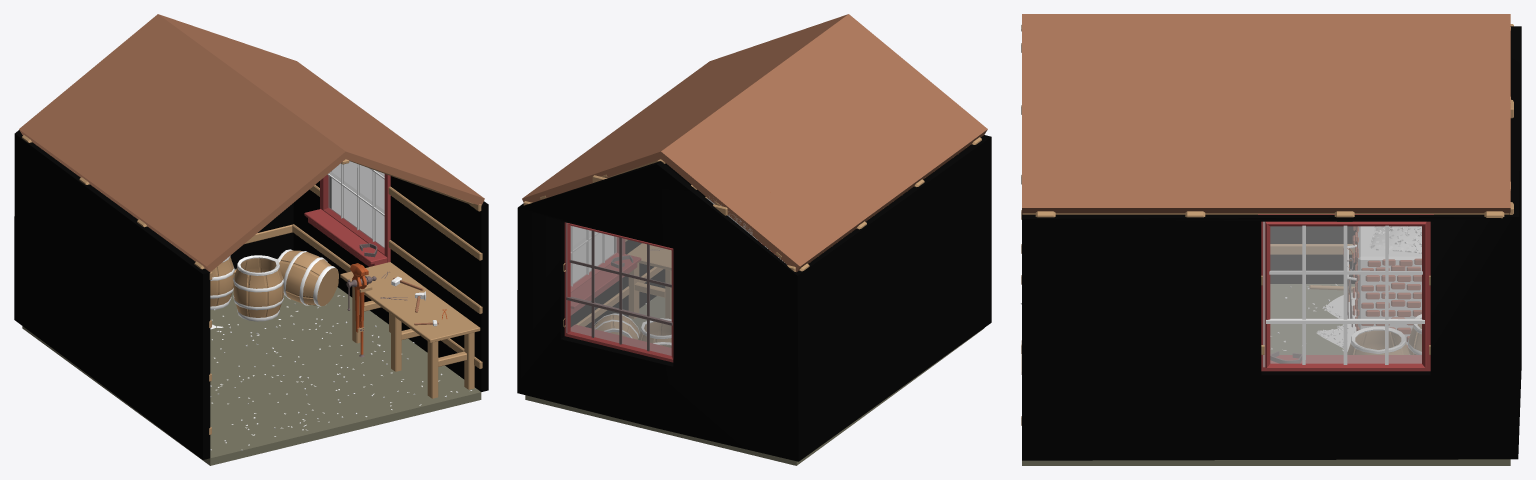
File: Smithy.fbx
3 views of the same model, side by side, from view 1: azimuth 30°, elevation 25°; view 2: azimuth 150°, elevation 25°; view 3: azimuth 270°, elevation 25° (orthographic). The views are drawn at different scales.
Parts seen in each view (by area): view 1: blacksmith; view 2: blacksmith; view 3: blacksmith.
Part boxes in pixels (x1=…): blacksmith: x1=14, y1=14, x2=488, y2=465; blacksmith: x1=517, y1=14, x2=991, y2=465; blacksmith: x1=1020, y1=14, x2=1521, y2=465.
Size of the model in its own units: 527 by 496 by 615.
